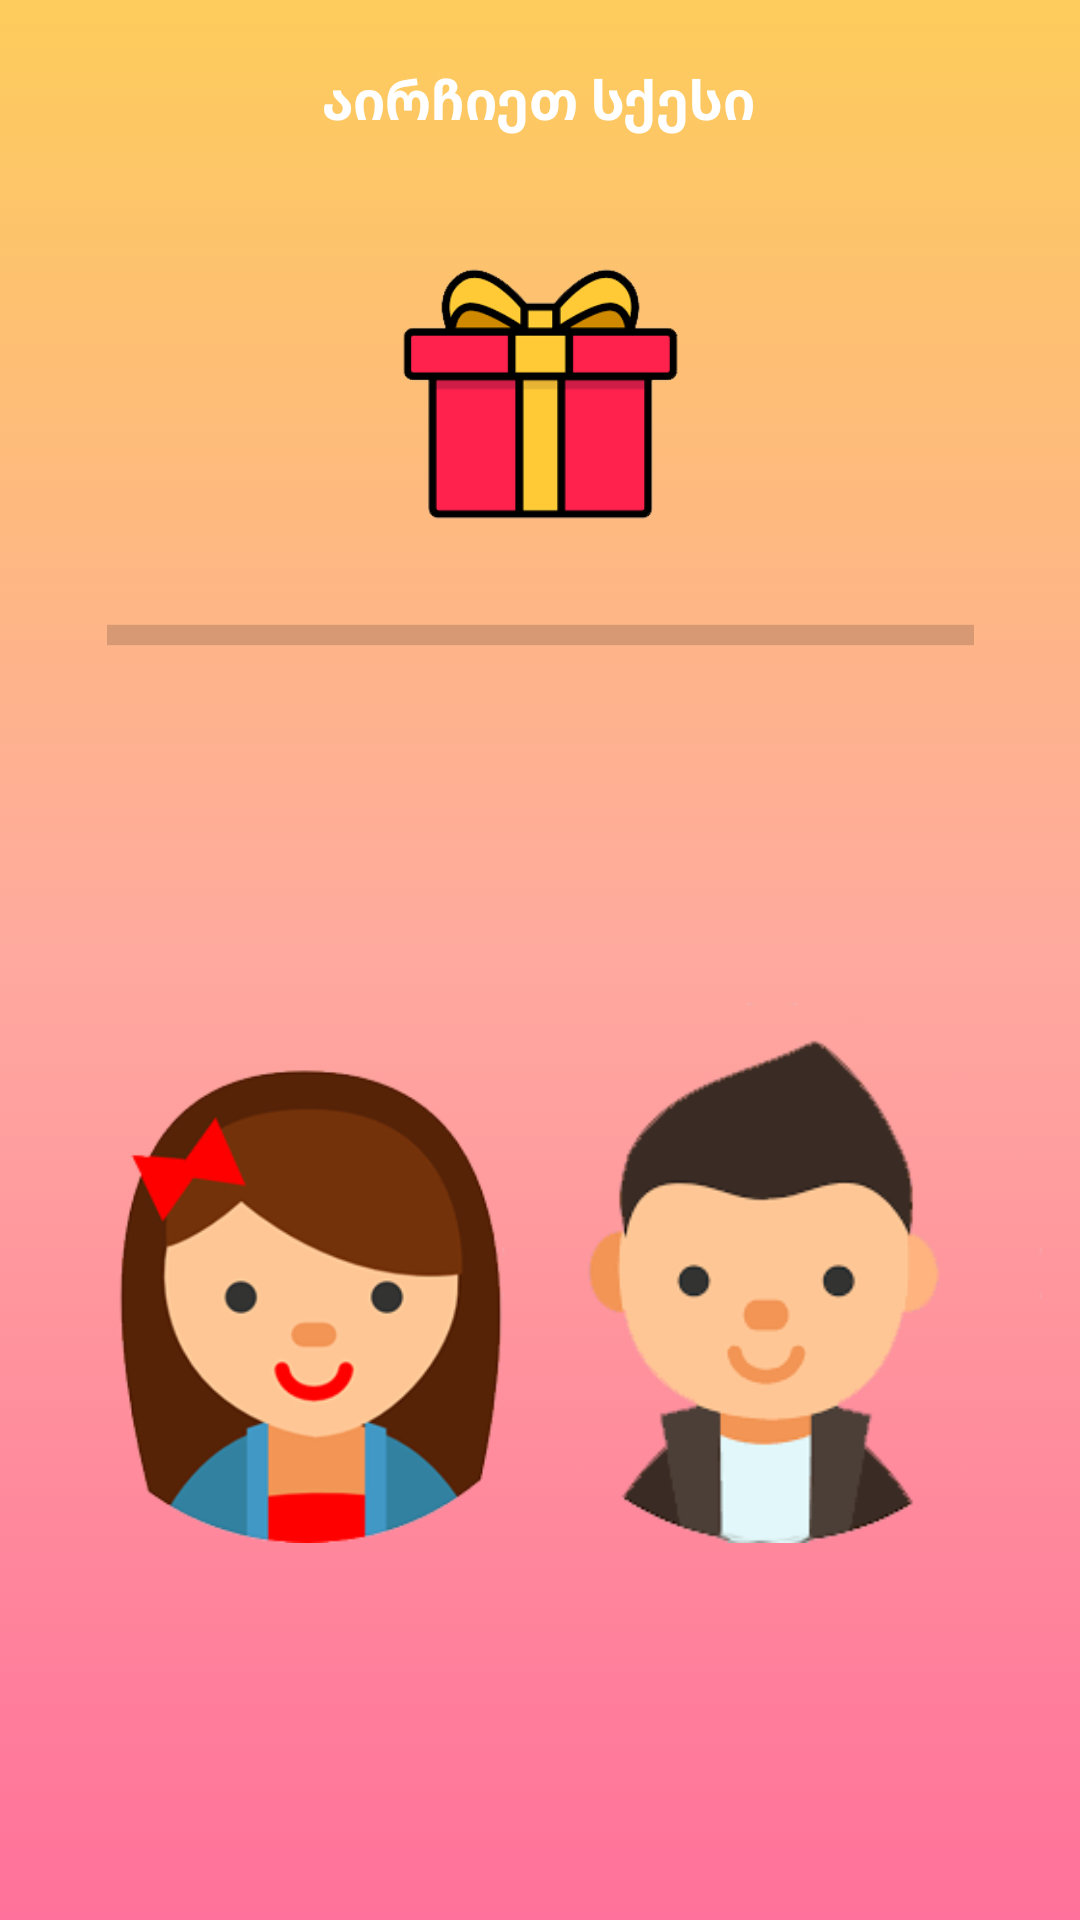

Where icons sit on this 1080px×1920px app screen, as [x1, y1, x2, y2]:
gift: [403, 269, 678, 519]
